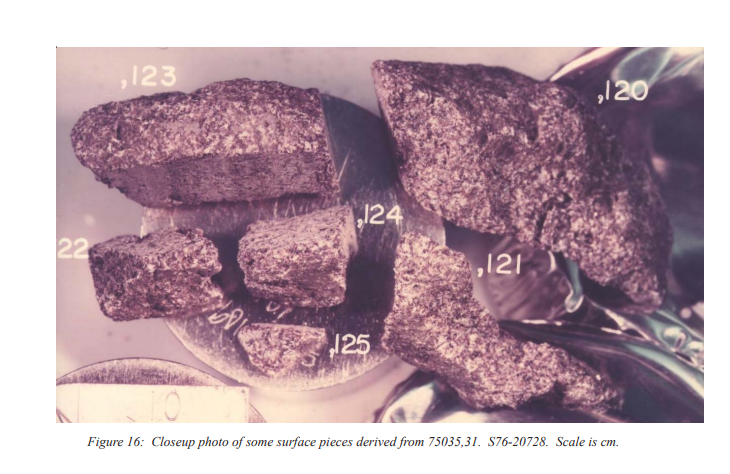Basalt: (362, 68, 659, 279), (401, 253, 623, 421), (78, 88, 354, 204), (224, 215, 388, 309), (98, 218, 240, 320)
